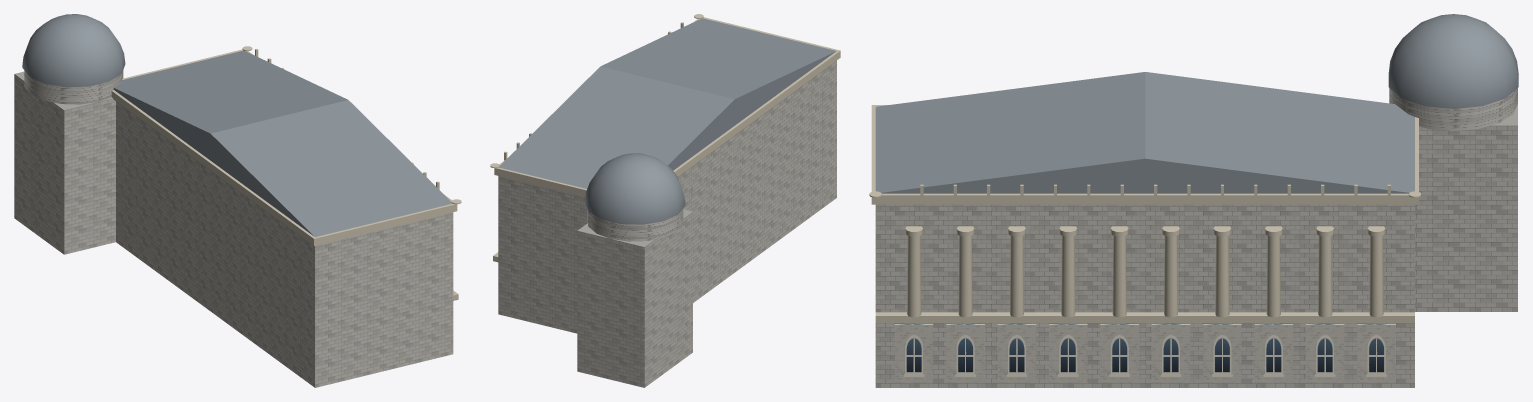
Rendered from opera.obj.
The picture shows the model from 3 angles, left to right: view 1: azimuth 30°, elevation 25°; view 2: azimuth 150°, elevation 25°; view 3: azimuth 270°, elevation 25°; orthographic projection. The views are drawn at different scales.
Visible parts, largest first — view 1: part1, part49, part52, part54, part2.nocast, part53; view 2: part1, part49, part52, part54, part2.nocast, part53; view 3: part1, part49, part52, part54, part2.nocast, part48.nocast, part53, part22.nocast, part25.nocast, part18.nocast, part21.nocast, part23.nocast (+15 smaller).
Boxes of the visible parts, left/top/right/bottom form: part1: left=116, top=101, right=453, bottom=387; part49: left=113, top=50, right=452, bottom=237; part52: left=14, top=71, right=115, bottom=254; part54: left=22, top=14, right=125, bottom=87; part2.nocast: left=111, top=49, right=457, bottom=245; part53: left=24, top=70, right=123, bottom=104; part1: left=498, top=60, right=836, bottom=333; part49: left=499, top=18, right=836, bottom=188; part52: left=577, top=209, right=692, bottom=387; part54: left=585, top=153, right=685, bottom=224; part2.nocast: left=494, top=17, right=840, bottom=196; part53: left=587, top=208, right=683, bottom=241; part1: left=875, top=204, right=1414, bottom=387; part49: left=875, top=72, right=1414, bottom=193; part52: left=1415, top=104, right=1517, bottom=311; part54: left=1388, top=14, right=1518, bottom=108; part2.nocast: left=871, top=105, right=1418, bottom=204; part48.nocast: left=875, top=312, right=1414, bottom=322; part53: left=1389, top=88, right=1517, bottom=131; part22.nocast: left=1151, top=324, right=1190, bottom=383; part25.nocast: left=997, top=324, right=1036, bottom=383; part18.nocast: left=1357, top=324, right=1395, bottom=383; part21.nocast: left=1203, top=324, right=1241, bottom=383; part23.nocast: left=1100, top=324, right=1138, bottom=383.
Bounding box in the file's own units: 24.27 × 23.2 × 50.57.
4 materials, 2 textured.
